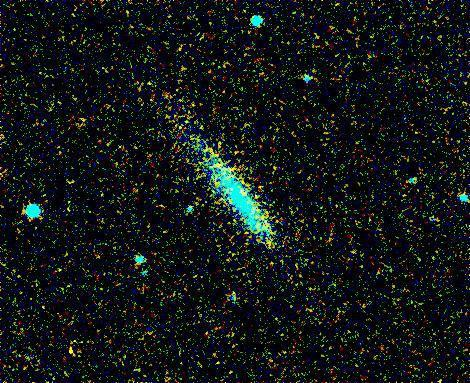star: (55, 339, 85, 369)
